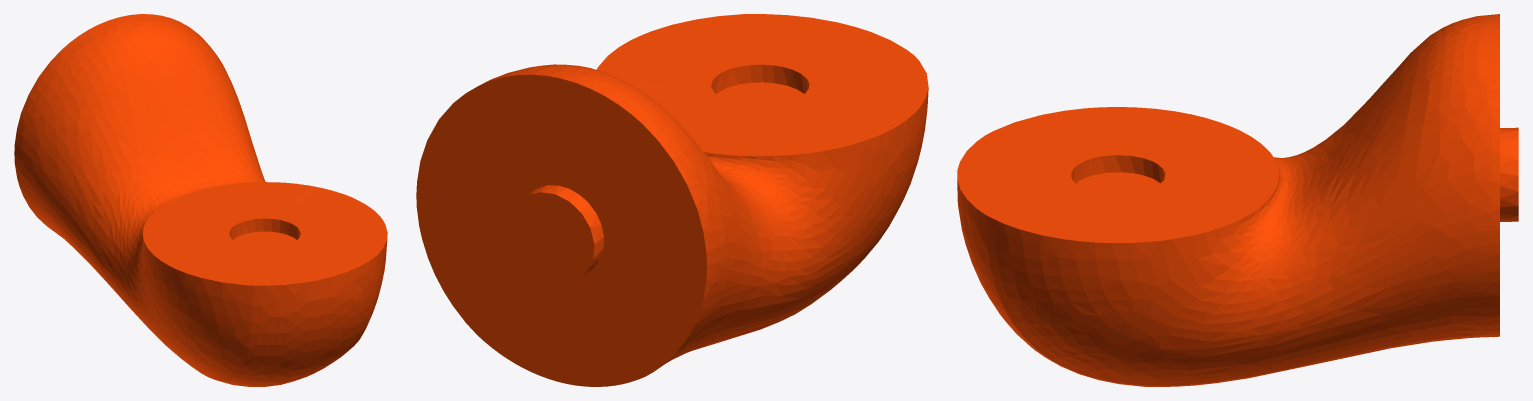
3 renders of one model, left to right at view 1: azimuth 30°, elevation 25°; view 2: azimuth 150°, elevation 25°; view 3: azimuth 270°, elevation 25°, orthographic. The views are drawn at different scales.
Visible parts, largest first — view 1: Link_1; view 2: Link_1; view 3: Link_1.
Boxes of the visible parts, box(x1,y1,x2,y2) form: Link_1: box(14, 14, 387, 386); Link_1: box(416, 14, 928, 386); Link_1: box(957, 14, 1518, 386).
Bounding box in the file's own units: 0.1711 × 0.2011 × 0.2979.
1 material, 1 textured.
